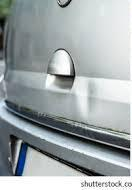dent: (73, 74, 117, 130)
